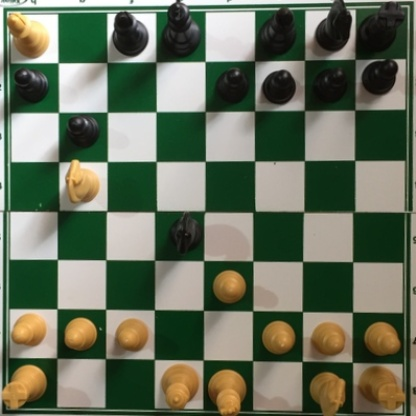black-bishop: (257, 3, 295, 54), (111, 5, 150, 53)
black-king: (159, 1, 199, 57)
black-knight: (316, 1, 353, 53), (168, 206, 201, 254)
black-pawn: (11, 67, 49, 105), (211, 66, 249, 104), (361, 59, 398, 96), (312, 66, 348, 104), (63, 114, 100, 150), (261, 69, 297, 105)
black-rook: (355, 1, 404, 53)
white-bishop: (4, 11, 52, 60)
white-king: (203, 366, 246, 416)
white-knight: (307, 370, 349, 416), (62, 157, 101, 206)
white-pawn: (258, 317, 296, 356), (113, 316, 152, 353), (362, 320, 401, 357), (62, 315, 100, 351), (310, 322, 347, 358), (10, 313, 48, 348), (211, 270, 248, 305)
white-queen: (157, 360, 199, 412)
white-rook: (1, 361, 49, 410), (355, 363, 404, 410)
